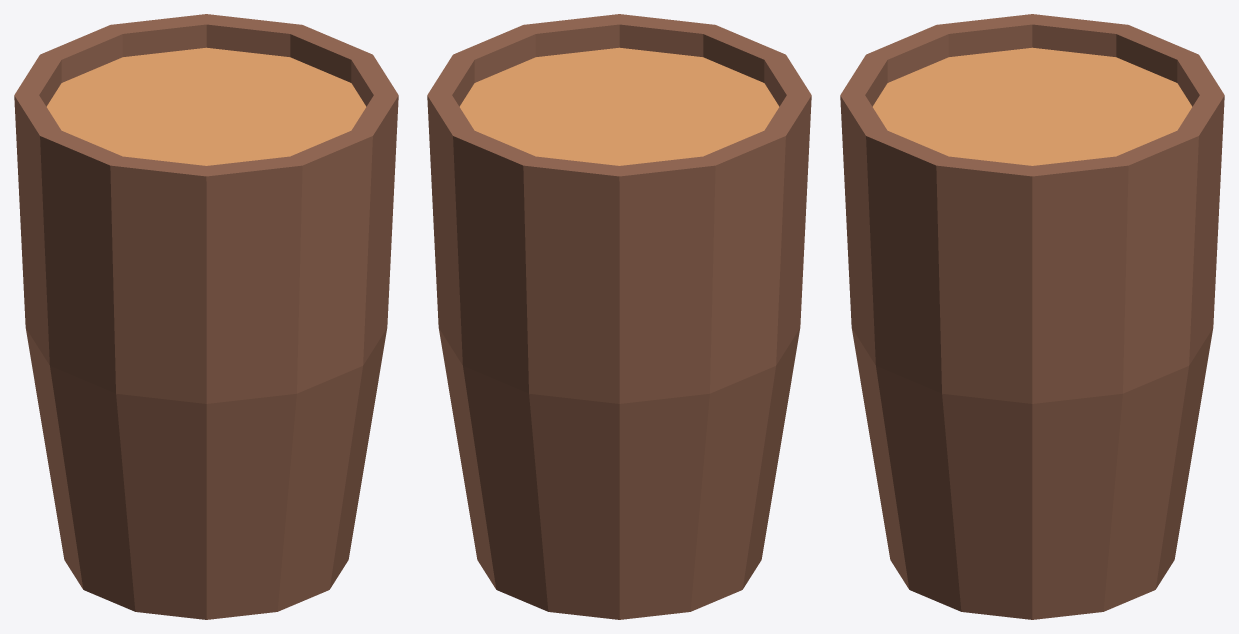
File: Amphor_D.fbx
The picture shows the model from 3 angles, left to right: view 1: azimuth 30°, elevation 25°; view 2: azimuth 150°, elevation 25°; view 3: azimuth 270°, elevation 25°; orthographic projection.
Parts seen in each view (by area): view 1: Amphor_D; view 2: Amphor_D; view 3: Amphor_D.
Boxes of the visible parts, x1=… form: Amphor_D: x1=14, y1=14, x2=398, y2=619; Amphor_D: x1=427, y1=14, x2=811, y2=619; Amphor_D: x1=840, y1=14, x2=1224, y2=619.
Size of the model in its own units: 150 by 200 by 150.
1 material, 1 textured.
